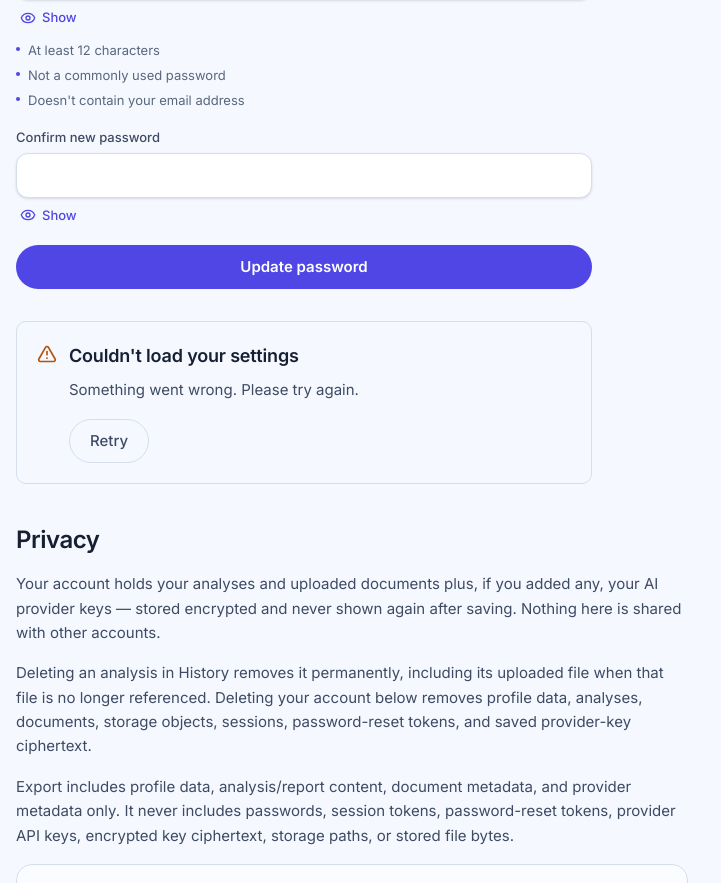
Test case: SettingsScreen load states › shows a retryable error when loading fails
The image size is (721, 883).
(page scrolled)
Expected: the message shows "Couldn't load your settings", [69, 345, 299, 366]
Expected: the message shows "Something went wrong. Please try again.", [69, 380, 359, 399]
Click the button "Retry": point(109, 441) [69, 419, 149, 463]
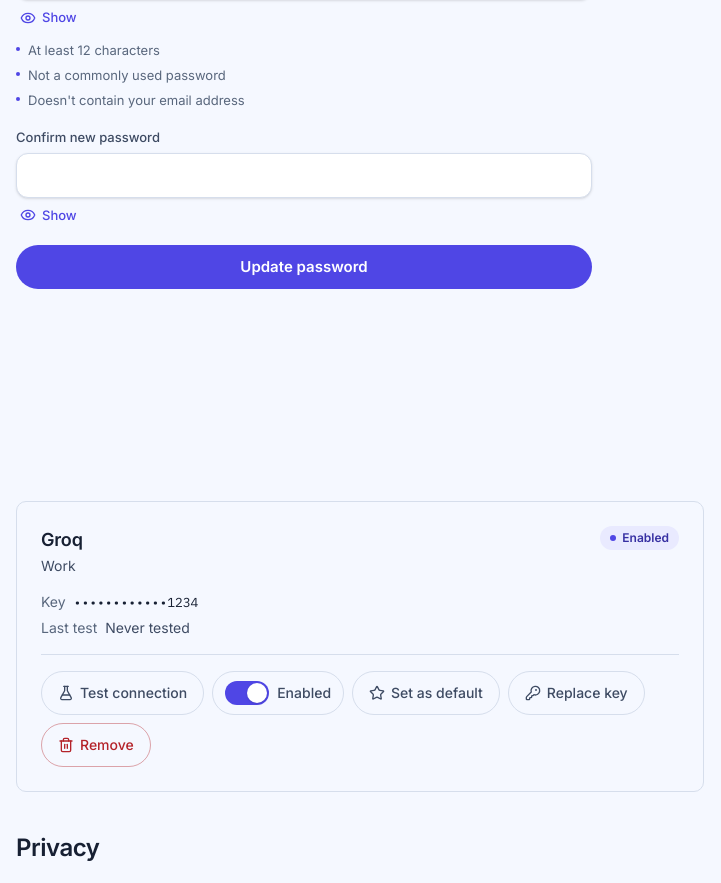
Expected: the heading "Groq" is shown, [41, 526, 83, 554]
